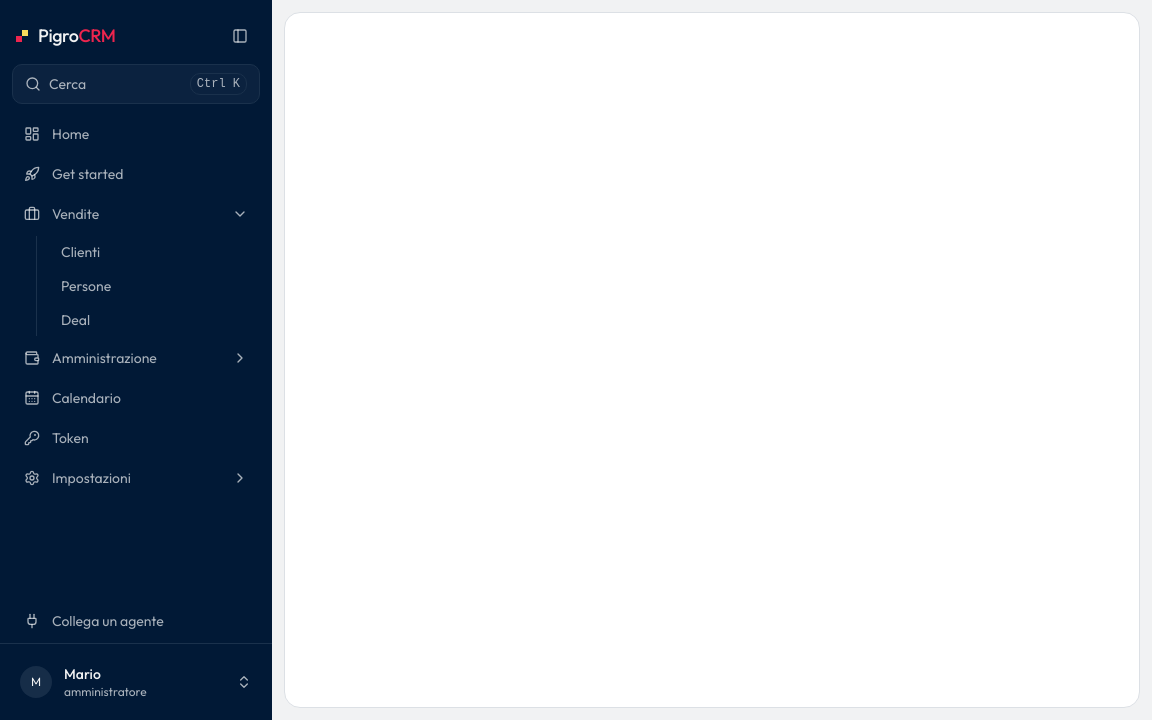
Scenario: AppShell › collapses to an icon rail: no group headers, every section still one click away
Click the button named "Comprimi il menu" at (240, 36), box x1=224 y1=20 x2=256 y2=52
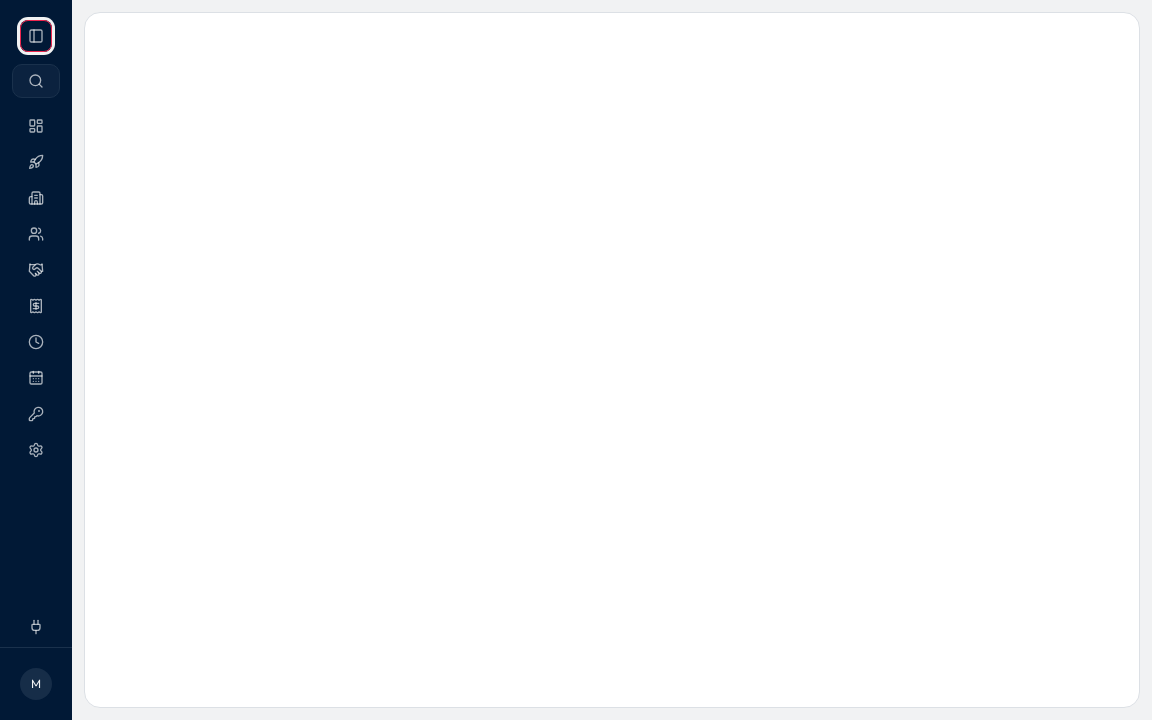
Expected: the button "Vendite" is gone
Expected: the 3rd link named "Clienti" is shown, x1=12 y1=182 x2=60 y2=214
Expected: the 5th link named "Deal" is shown, x1=28 y1=262 x2=65 y2=288
